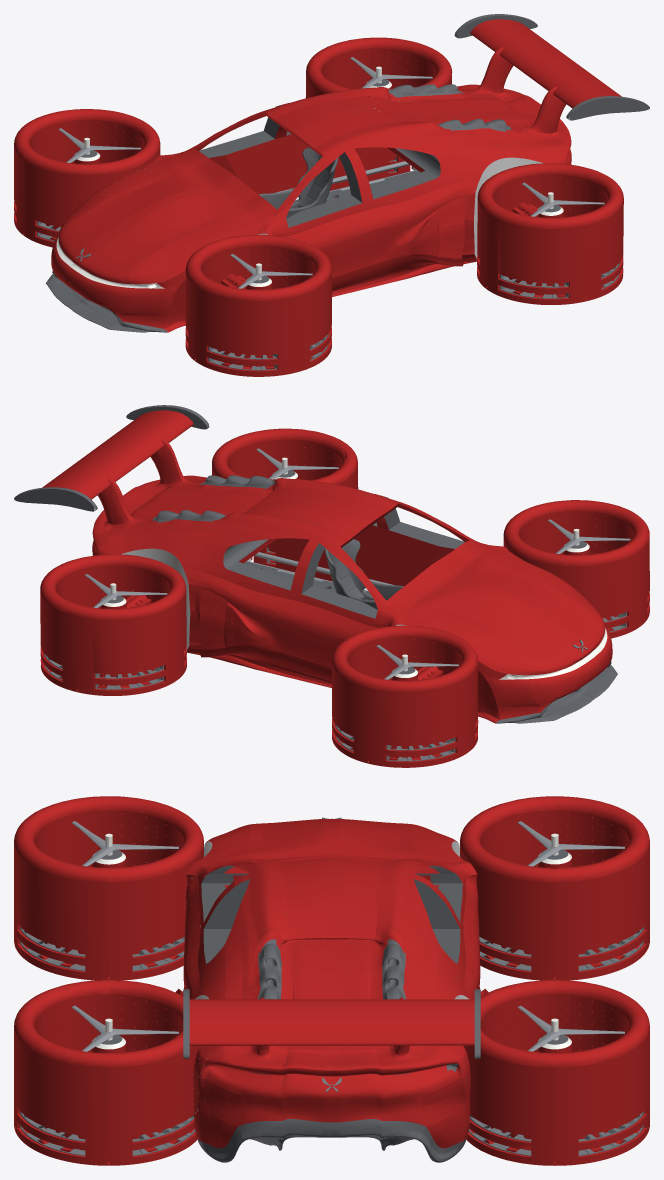
The model's file is aeroboticarbon.glb.
3 renders of one model, top to bottom at view 1: azimuth 30°, elevation 25°; view 2: azimuth 150°, elevation 25°; view 3: azimuth 270°, elevation 25°, orthographic. The views are drawn at different scales.
Visible parts, largest first — view 1: Body, Rotor_FL, Rotor_RL, Rotor_RR, Rotor_FR; view 2: Body, Rotor_RL, Rotor_RR, Rotor_FR, Rotor_FL; view 3: Body, Rotor_FL, Rotor_FR, Rotor_RL, Rotor_RR.
Boxes of the visible parts, <box> form: Body: <box>14,14,649,376</box>; Rotor_FL: <box>522,182,604,216</box>; Rotor_RL: <box>230,254,312,288</box>; Rotor_RR: <box>58,128,140,162</box>; Rotor_FR: <box>350,57,432,88</box>; Body: <box>14,405,649,767</box>; Rotor_RL: <box>548,519,630,553</box>; Rotor_RR: <box>376,645,458,679</box>; Rotor_FR: <box>85,574,167,607</box>; Rotor_FL: <box>256,448,338,479</box>; Body: <box>14,796,649,1165</box>; Rotor_FL: <box>72,1005,178,1051</box>; Rotor_FR: <box>517,1005,624,1051</box>; Rotor_RL: <box>72,821,178,866</box>; Rotor_RR: <box>518,821,624,866</box>.
Size of the model in its own units: 5.71 by 1.45 by 4.62.
